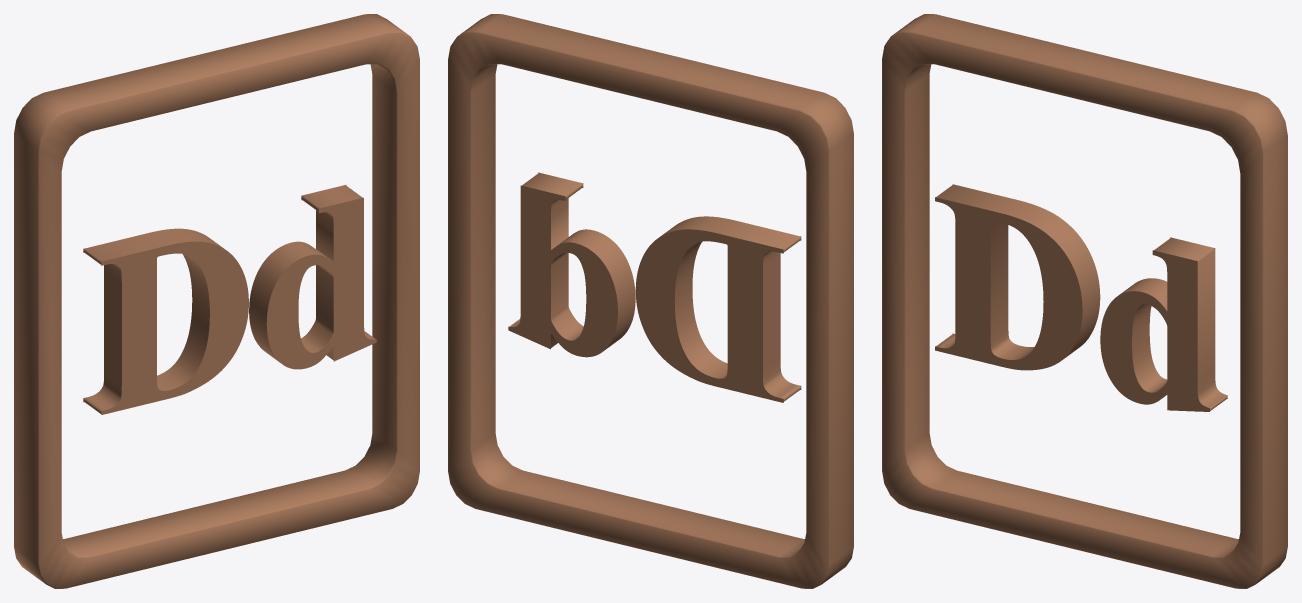
Rendered from Letter_D.gltf.
The picture shows the model from 3 angles, left to right: view 1: azimuth 30°, elevation 25°; view 2: azimuth 150°, elevation 25°; view 3: azimuth 330°, elevation 25°; orthographic projection.
Visible parts, largest first — view 1: Plane.053; view 2: Plane.053; view 3: Plane.053.
Boxes of the visible parts, <box> form: Plane.053: <box>14,14,419,588</box>; Plane.053: <box>448,14,853,588</box>; Plane.053: <box>882,14,1287,588</box>.
Size of the model in its own units: 1.25 by 1.49 by 0.1681.
